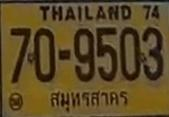0: (32, 27, 54, 81), (119, 26, 140, 80)
3: (140, 26, 162, 80)
5: (96, 26, 116, 80)
7: (10, 27, 30, 81)
9: (73, 27, 94, 81)
SKN: (46, 87, 131, 113)
